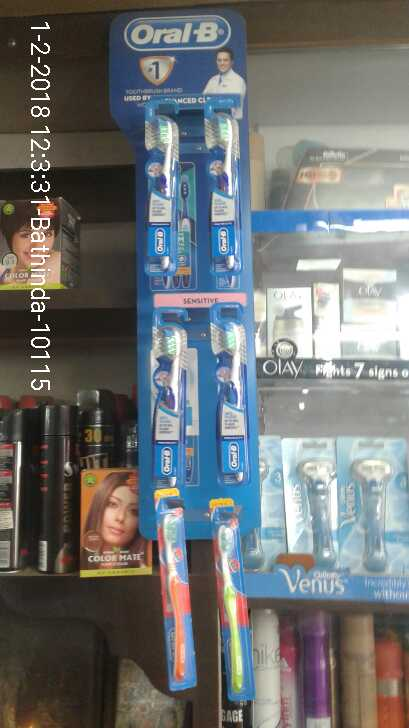beauty: (342, 439, 407, 580), (277, 438, 338, 572), (263, 283, 314, 362), (339, 254, 398, 322)
pharmacy: (156, 512, 208, 689), (132, 105, 185, 274), (213, 507, 253, 707), (209, 306, 248, 483), (198, 113, 242, 266), (147, 320, 186, 482)
